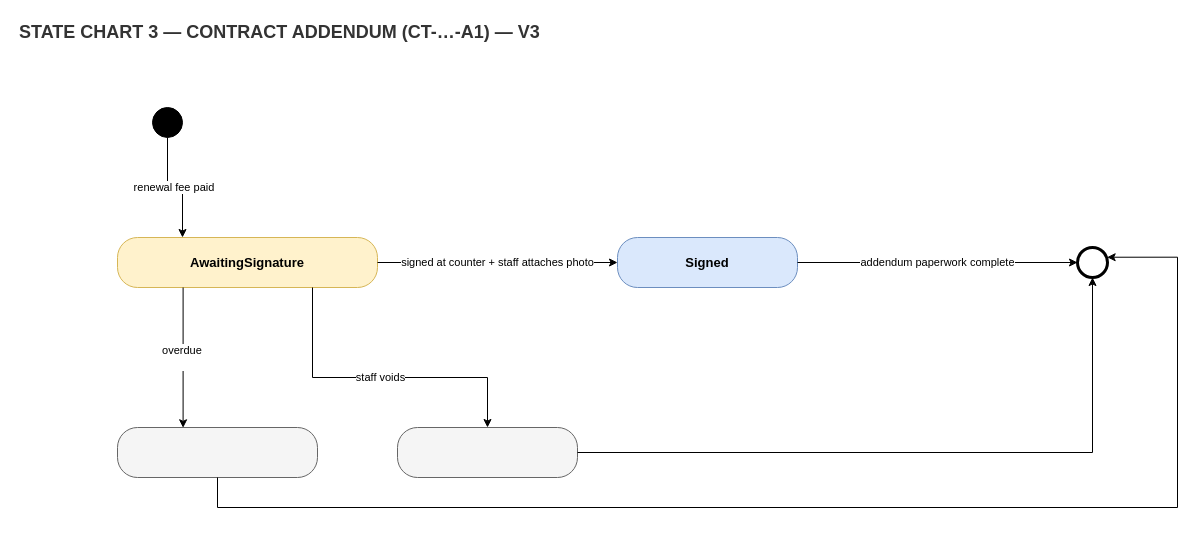
The diagram is 1203 pixels wide and 533 high, and some of its shapes have lost their labels. The centre of each missing label's shape, as x and y in pixels:
Expired: the point at 217,452
Voided: the point at 487,452
